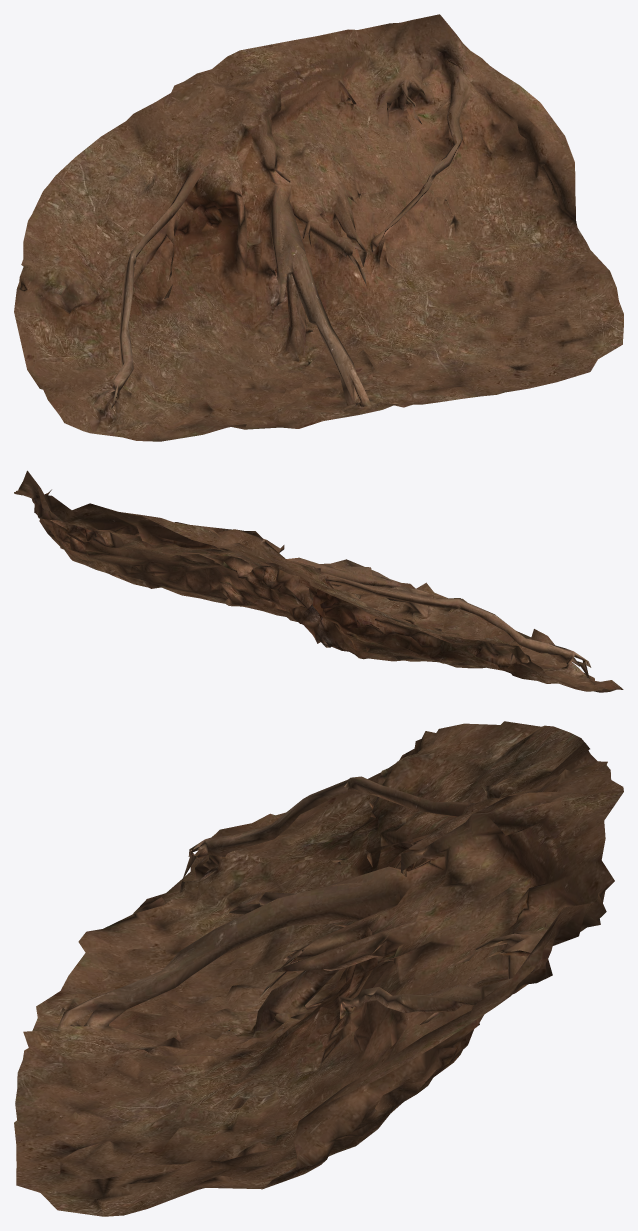
The model's file is root_cluster_01.glb.
The picture shows the model from 3 angles, top to bottom: view 1: azimuth 30°, elevation 25°; view 2: azimuth 150°, elevation 25°; view 3: azimuth 270°, elevation 25°; orthographic projection. The views are drawn at different scales.
Visible parts, largest first — view 1: root_cluster_01__lodS; view 2: root_cluster_01__lodS; view 3: root_cluster_01__lodS.
Part boxes in pixels (x1=…): root_cluster_01__lodS: x1=14, y1=14, x2=623, y2=441; root_cluster_01__lodS: x1=14, y1=470, x2=623, y2=692; root_cluster_01__lodS: x1=14, y1=721, x2=623, y2=1216.
Size of what is drawn, in the model's own units: 4.12 by 1.51 by 2.68.
1 material, 1 textured.
